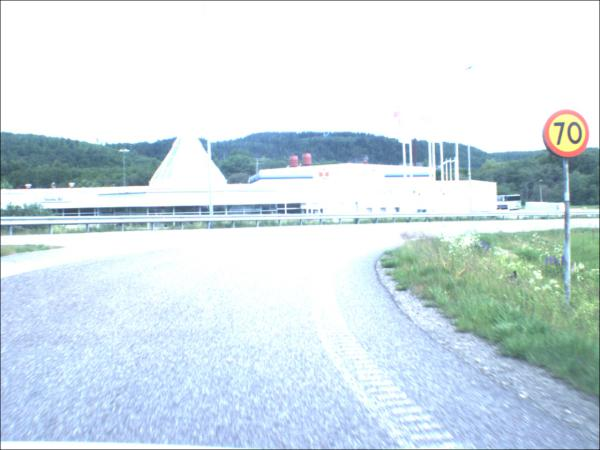70_SIGN: (543, 111, 592, 160)
